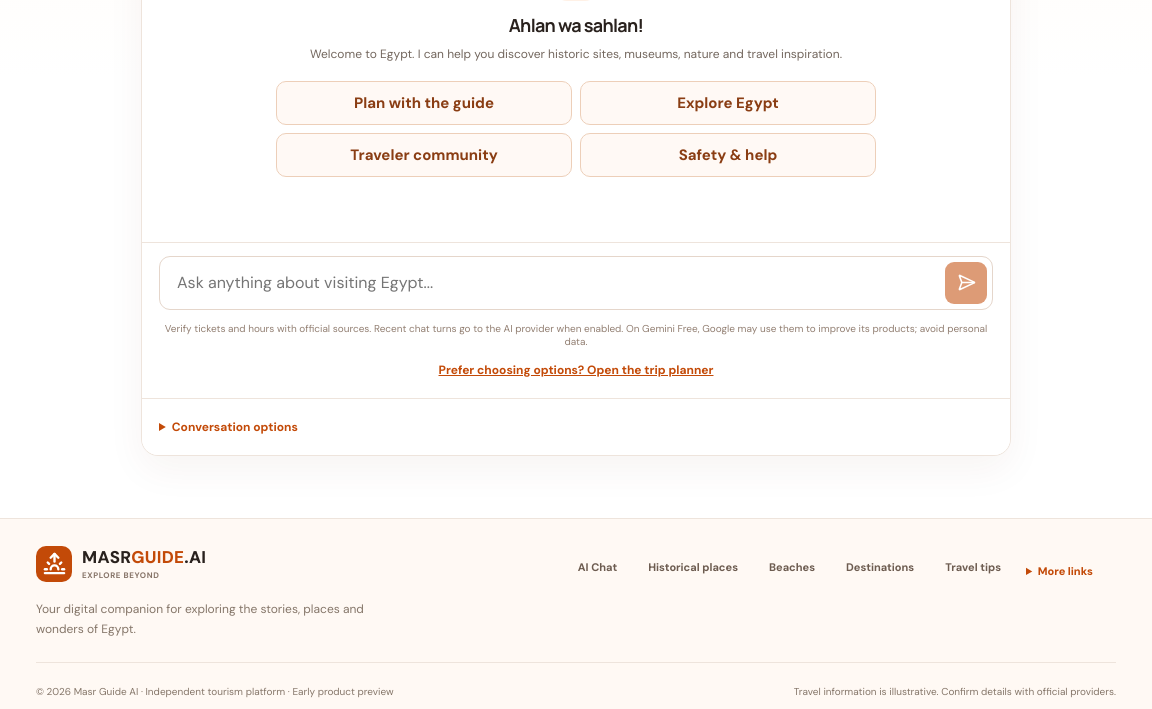
Test: v6 editorial discovery and regression › starts with AI chat and offers independent heritage destinations
The width and height of the screenshot is (1152, 709).
(page scrolled)
expect the field named "Ask the tour guide" is shown: met, box [175,262,945,304]
Click the button "Historical places". click: {"x": 693, "y": 567}
box: [642,559,744,575]
(page scrolled)
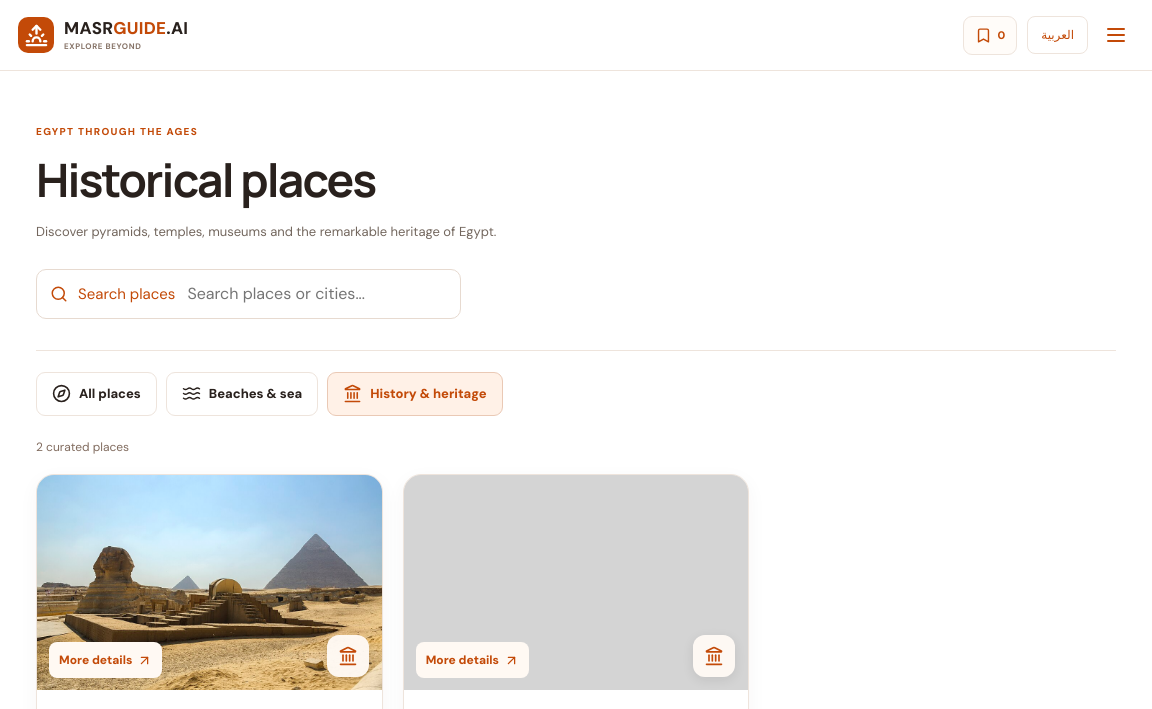
expect the heading "Historical places" is shown: met, box [36,148,375,211]
